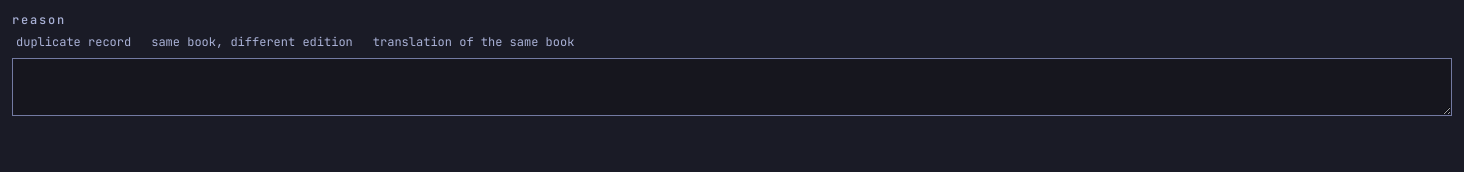
ReasonField › fills the field with a chip and marks that chip pressed
Click the button "duplicate record": {"x": 74, "y": 42} left=12, top=34, right=135, bottom=50
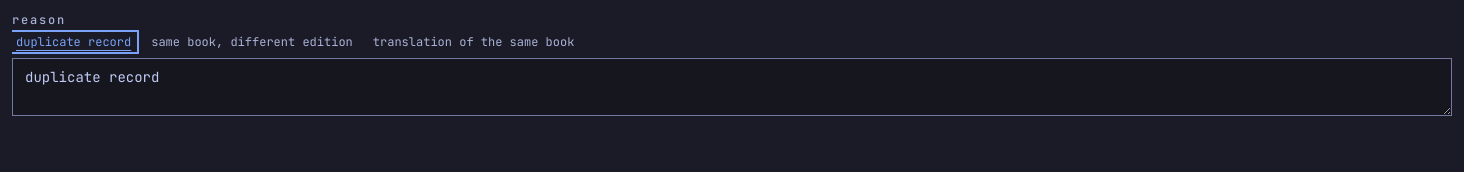
Expected: the text box labelled "Reason" holds "duplicate record", left=12, top=58, right=1452, bottom=116
